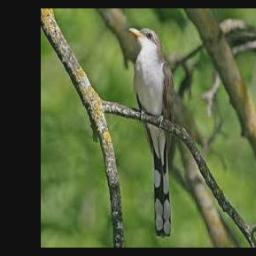Cuckoo: (128, 27, 176, 237)
